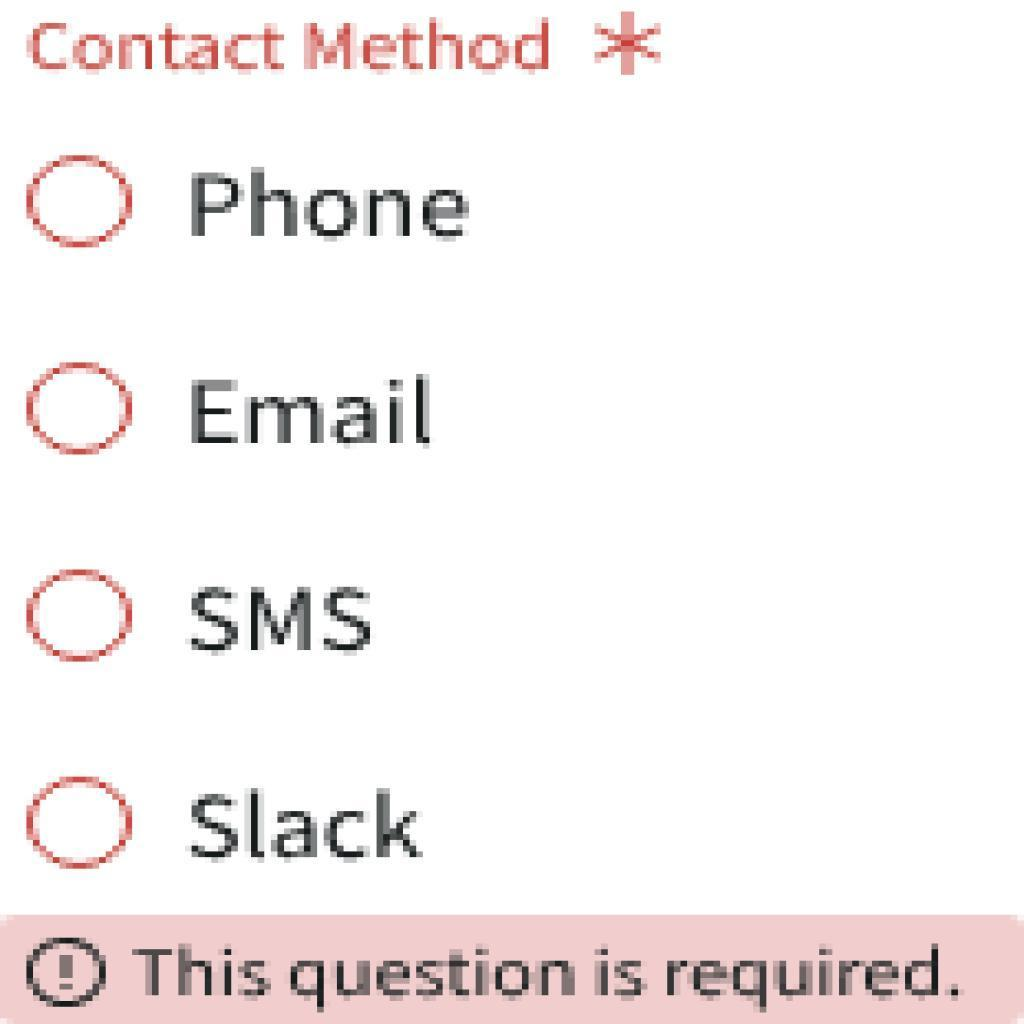label: (132, 940, 966, 1017), (26, 12, 675, 86), (181, 169, 480, 257), (185, 372, 437, 459), (193, 787, 437, 875), (184, 573, 372, 666)
radio: (13, 766, 146, 879), (18, 351, 144, 467), (18, 145, 142, 260), (21, 563, 143, 668)
